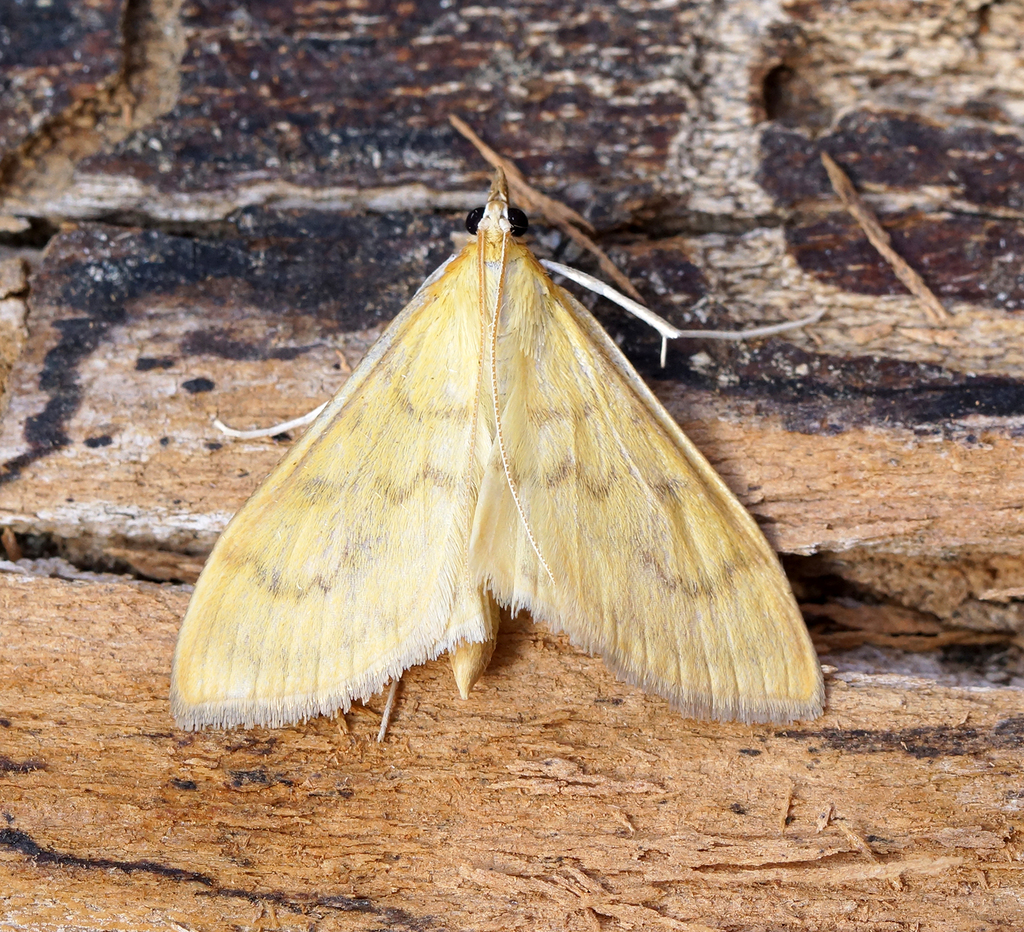Butterfly: (181, 127, 856, 759)
